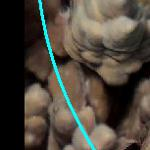alive: (2, 3, 148, 147)
